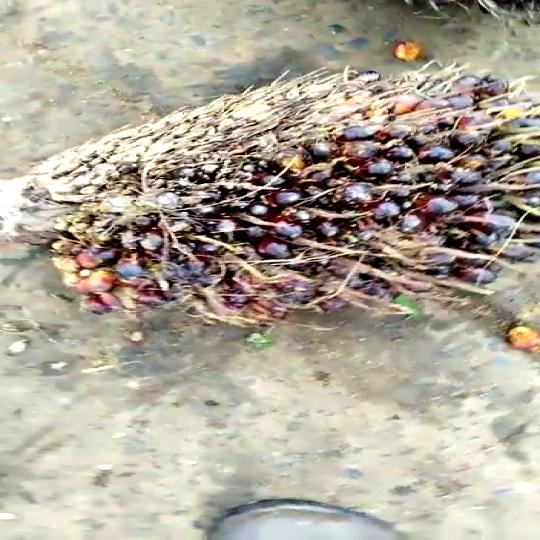mentah: (19, 70, 540, 316)
